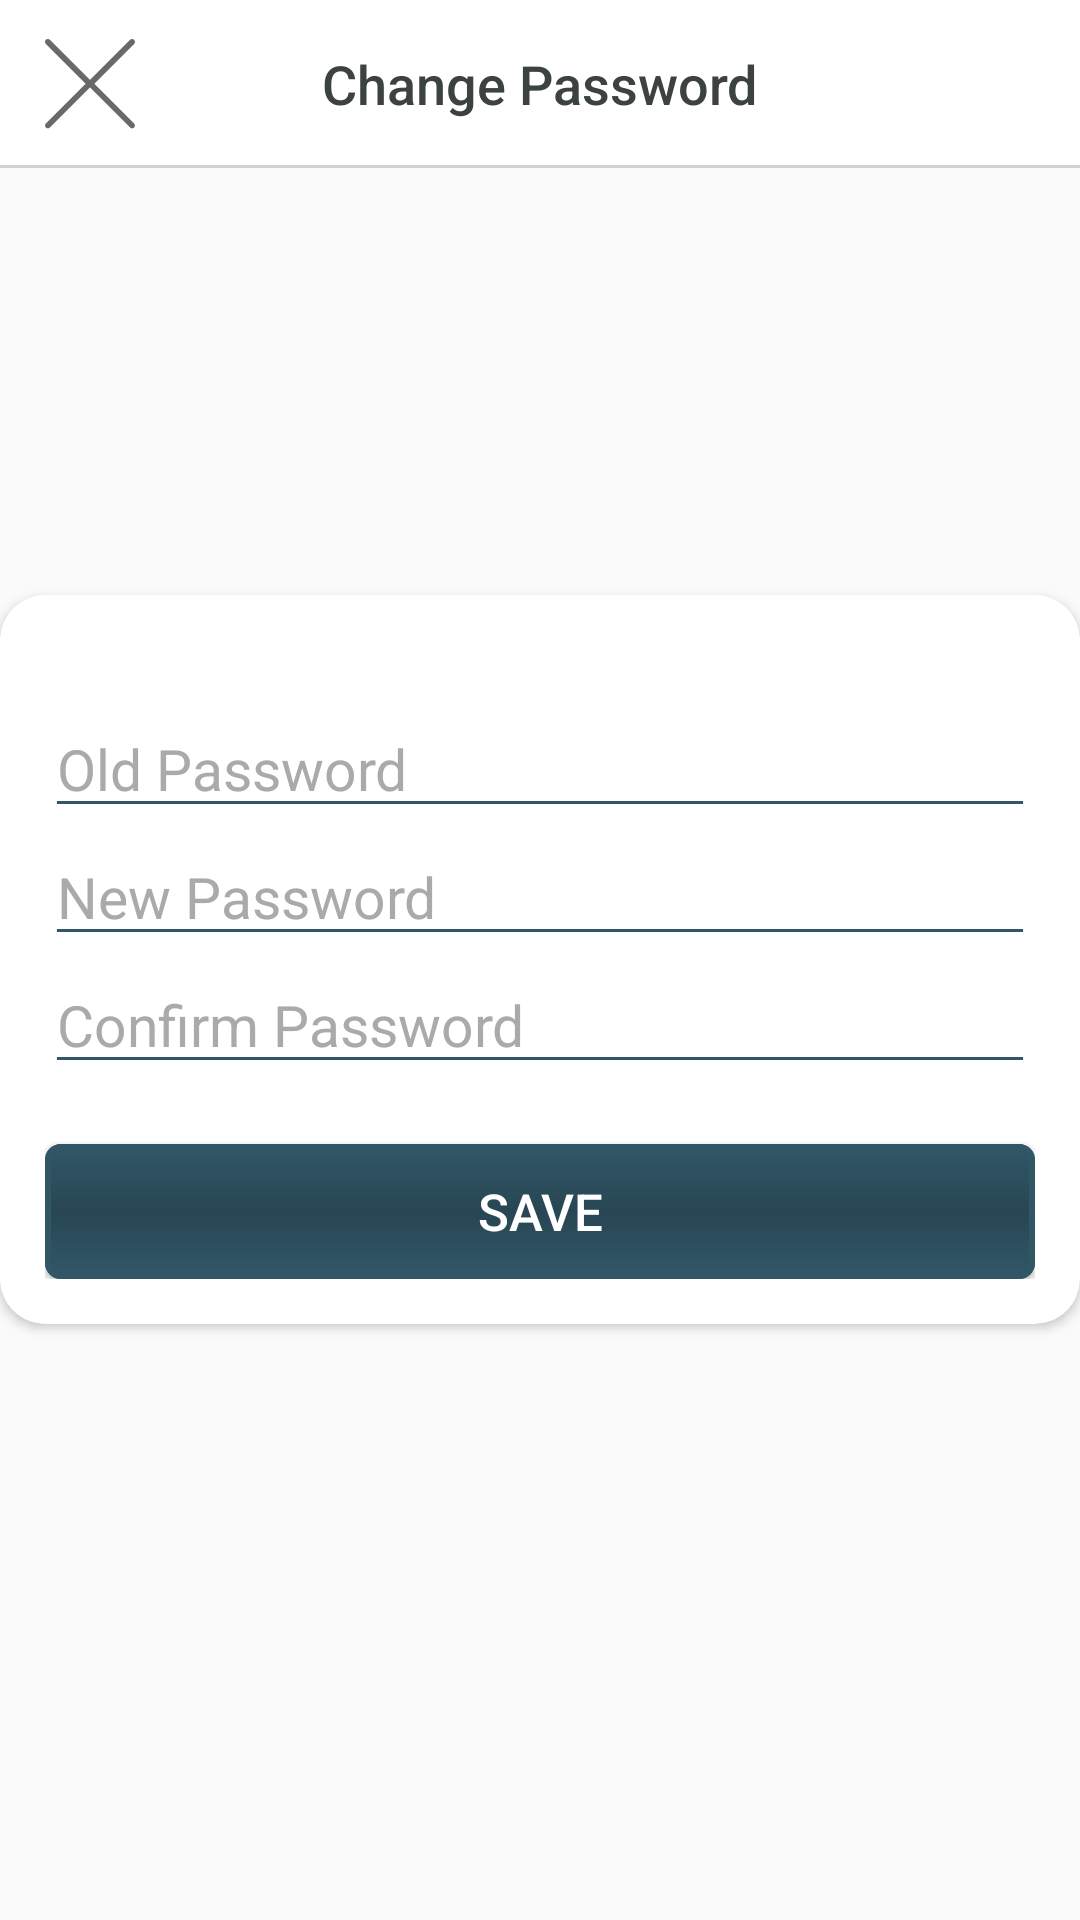

Point at icon controls on the screen. Image size 1080*1920, points as (x=x, y=y).
Button toclose dialog of creating new appointment: (x=90, y=84)
